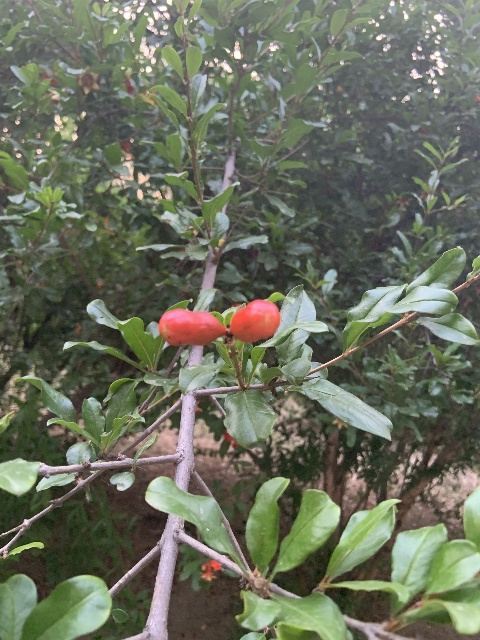bud: (158, 308, 226, 346), (229, 298, 280, 343)
early-fruit: (76, 69, 102, 94)
flower: (200, 560, 220, 580)
